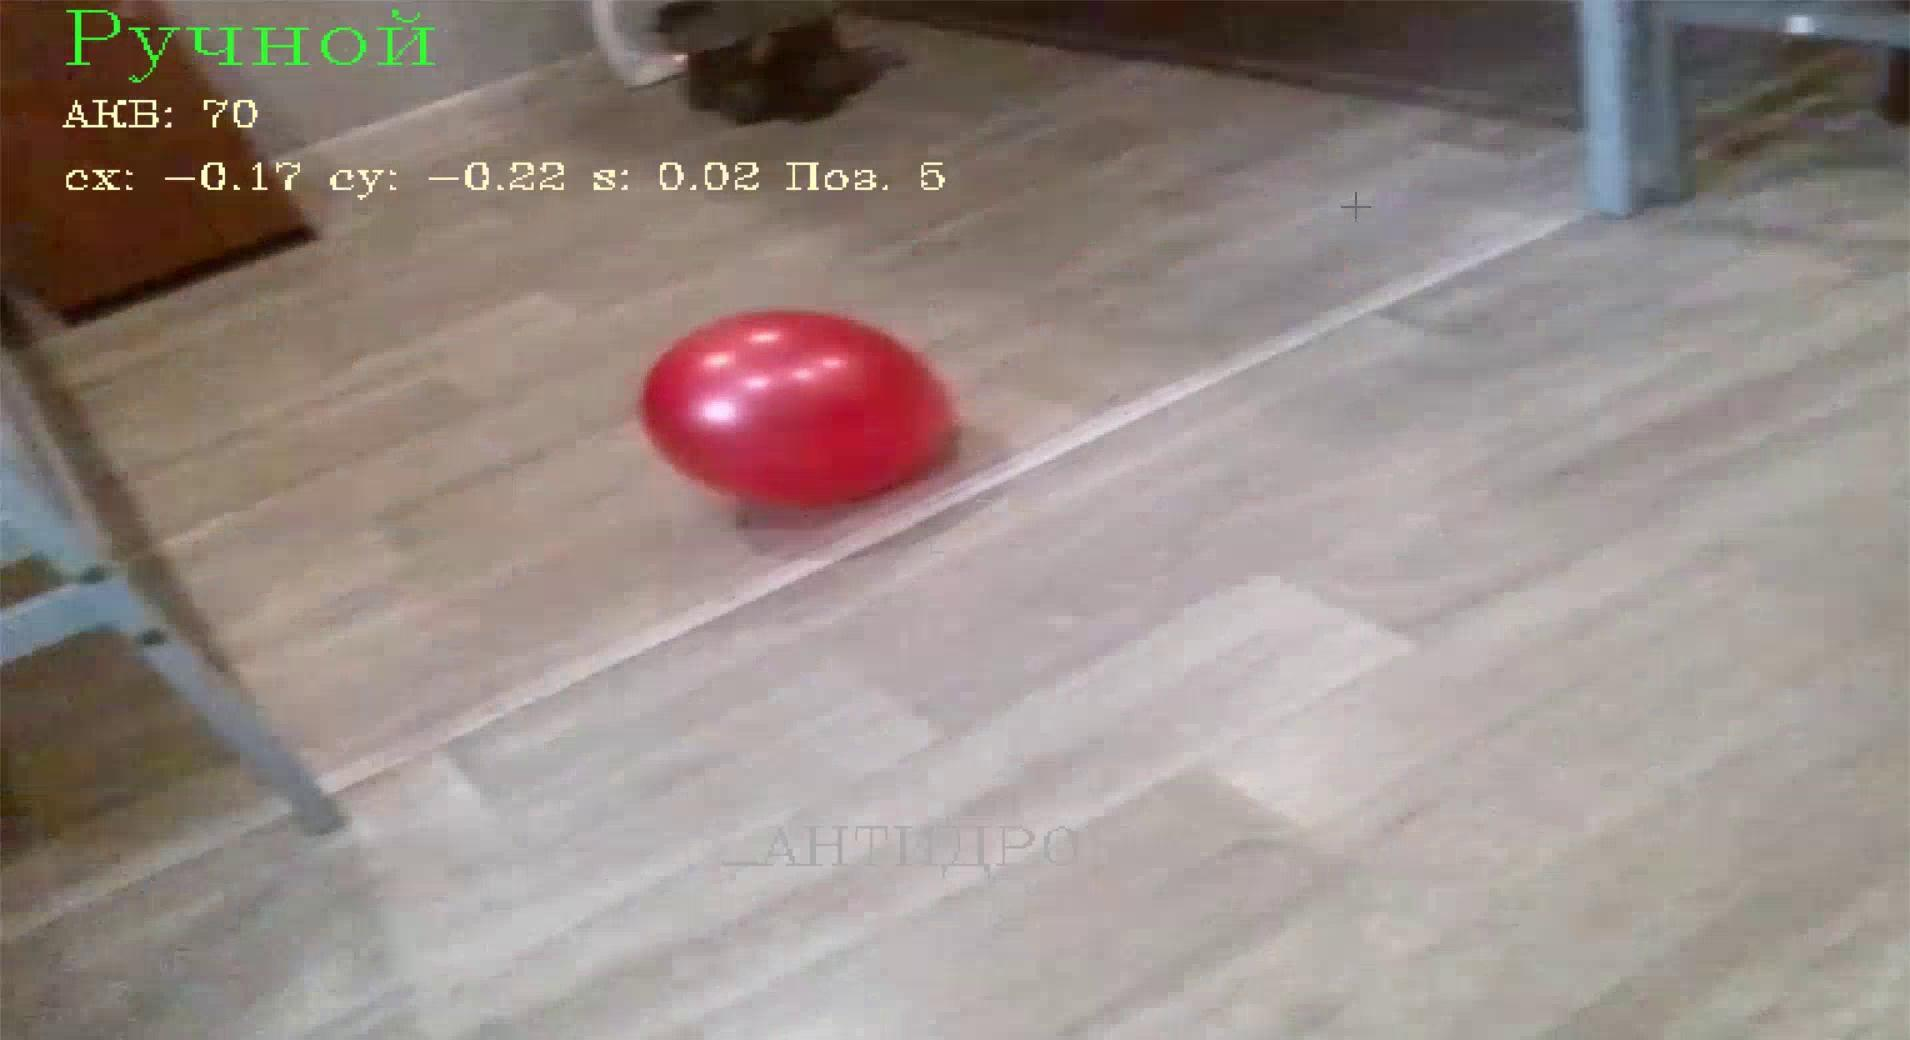red: (633, 295, 958, 519)
